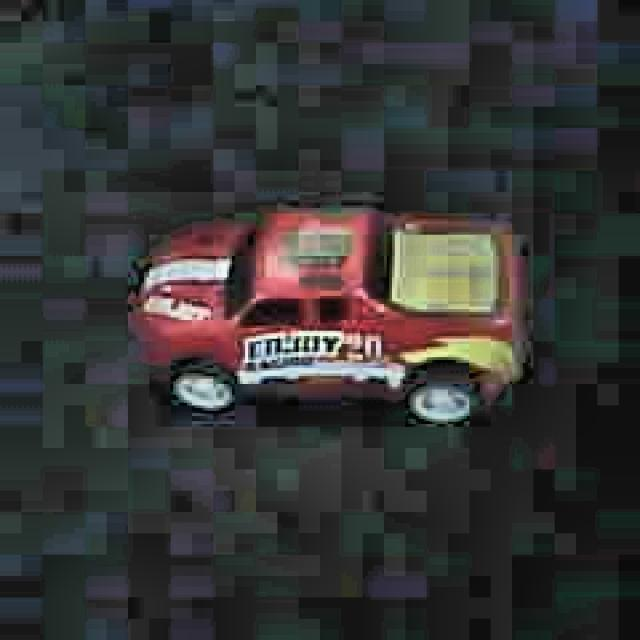car: (120, 197, 534, 436)
